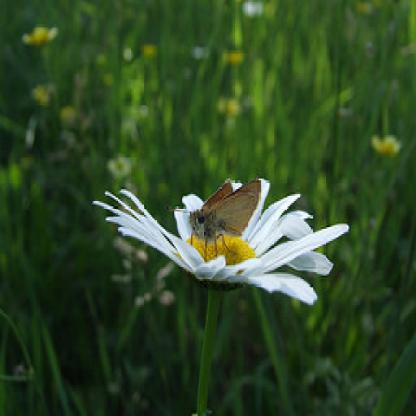ASTER: (67, 102, 360, 350)
